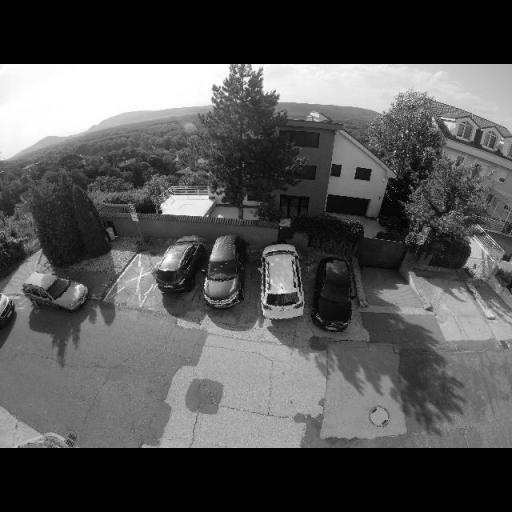busy: (249, 240, 311, 326), (191, 232, 252, 310), (306, 250, 362, 332), (149, 236, 201, 294), (20, 270, 89, 312)
free: (437, 289, 473, 327), (125, 265, 153, 295)
